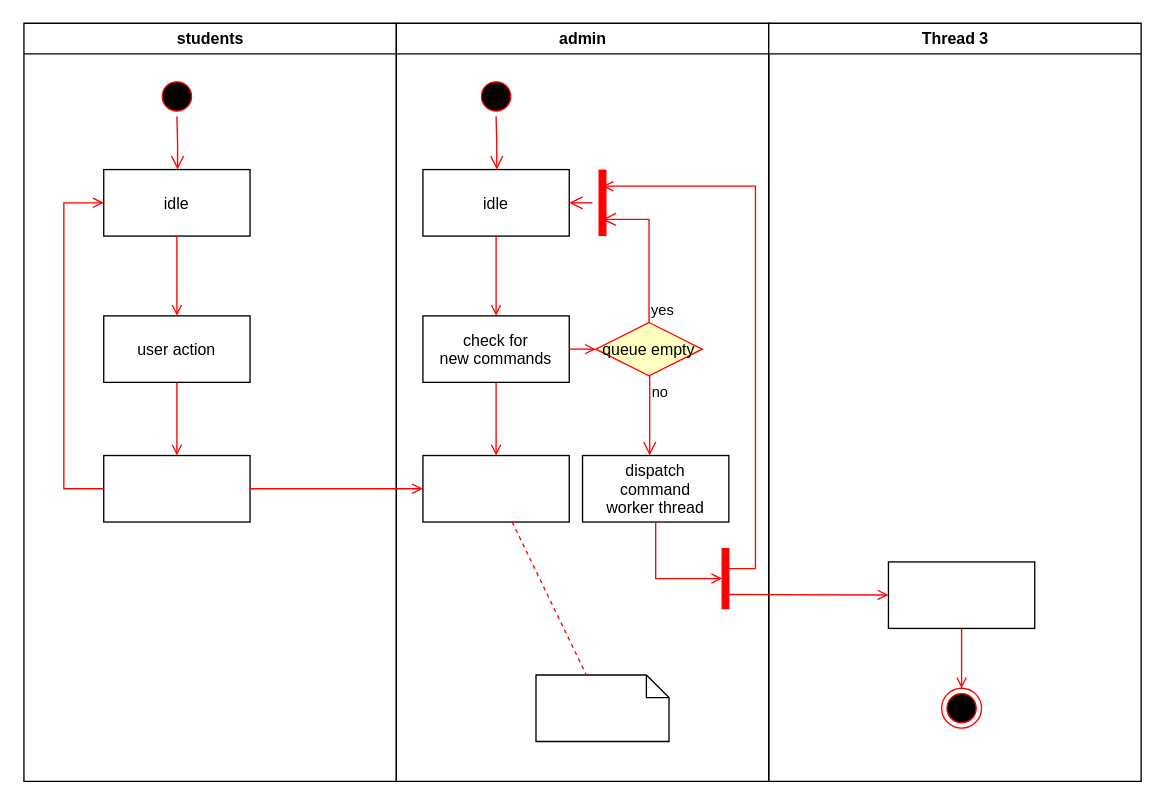
Image size: 1164x805. Some labels were removed from this diagram. The shapes that lost their labels are listed below. From the top down, each one's centre as x and y in pixels, then its label:
At (x=176, y=488): "post command".
At (x=495, y=488): "command queue".
At (x=961, y=594): "process command".
At (x=602, y=707): "critical section".
